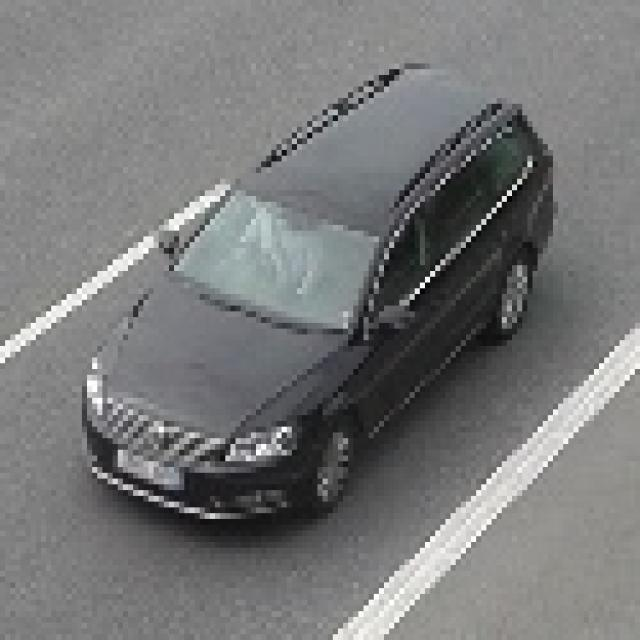SUV: (92, 75, 530, 504)
